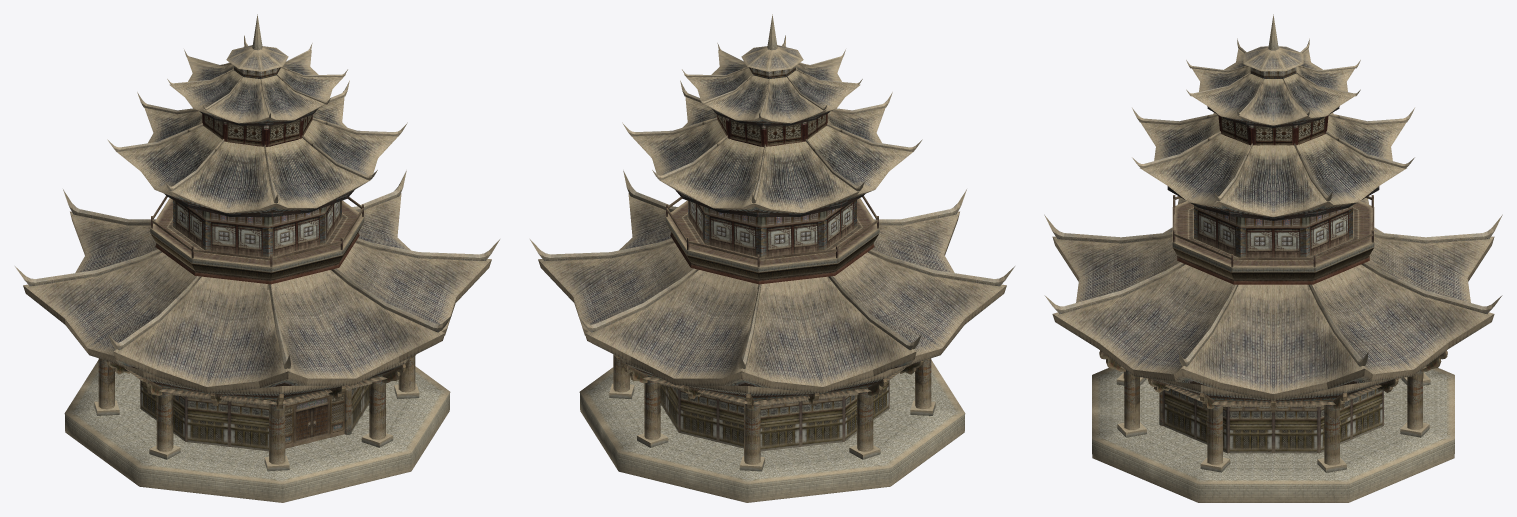
The model's file is desert_4fbuilding.fbx.
3 renders of one model, left to right at view 1: azimuth 30°, elevation 25°; view 2: azimuth 150°, elevation 25°; view 3: azimuth 270°, elevation 25°, orthographic.
Parts seen in each view (by area): view 1: desert_4Fbuilding_01, desert_4Fbuilding_05, desert_4Fbuilding_02, desert_4Fbuilding_04, desert_4Fbuilding_03; view 2: desert_4Fbuilding_01, desert_4Fbuilding_05, desert_4Fbuilding_02, desert_4Fbuilding_04, desert_4Fbuilding_03; view 3: desert_4Fbuilding_01, desert_4Fbuilding_05, desert_4Fbuilding_02, desert_4Fbuilding_04, desert_4Fbuilding_03.
Part boxes in pixels (x1,y1,x2,y2): desert_4Fbuilding_01: [23, 193, 491, 409]; desert_4Fbuilding_05: [15, 14, 499, 368]; desert_4Fbuilding_02: [64, 360, 450, 502]; desert_4Fbuilding_04: [150, 66, 364, 284]; desert_4Fbuilding_03: [94, 356, 419, 471]; desert_4Fbuilding_01: [538, 193, 1006, 409]; desert_4Fbuilding_05: [530, 14, 1014, 368]; desert_4Fbuilding_02: [579, 360, 965, 502]; desert_4Fbuilding_04: [665, 66, 879, 284]; desert_4Fbuilding_03: [609, 354, 935, 471]; desert_4Fbuilding_01: [1052, 198, 1494, 412]; desert_4Fbuilding_05: [1044, 14, 1502, 366]; desert_4Fbuilding_02: [1092, 368, 1454, 502]; desert_4Fbuilding_04: [1172, 67, 1374, 284]; desert_4Fbuilding_03: [1116, 366, 1430, 472].
Size of the model in its own units: 24.12 by 23.91 by 24.12.
